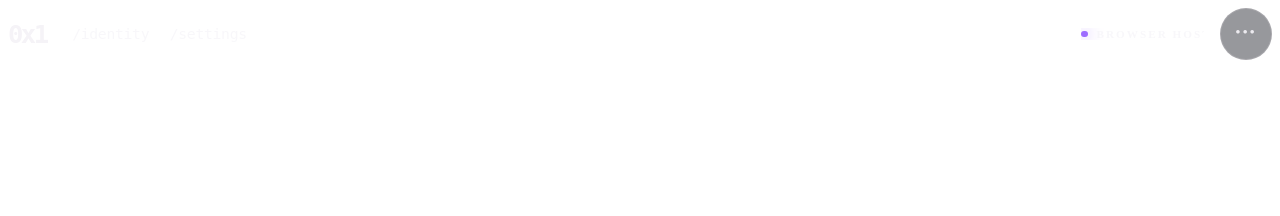
Test: AppHeader › performs a host action from the overflow
Click the button named "More": x=1246, y=34 [1220,8,1272,60]
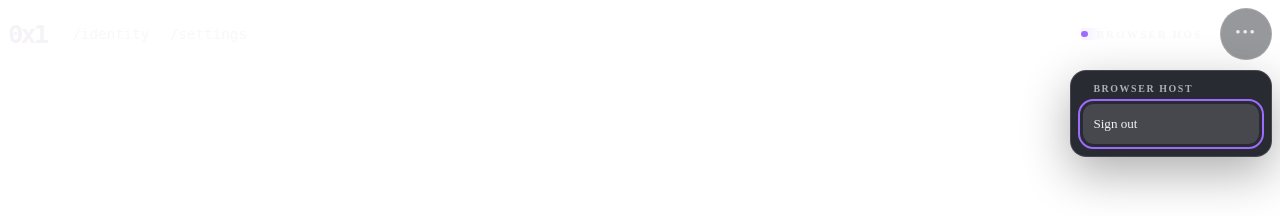
Click the menu item "Sign out": x=1171, y=124 [1083,104,1259,144]
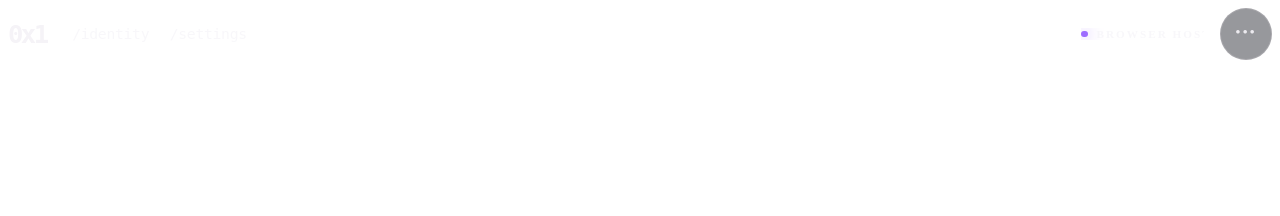
Check: the menu is gone
